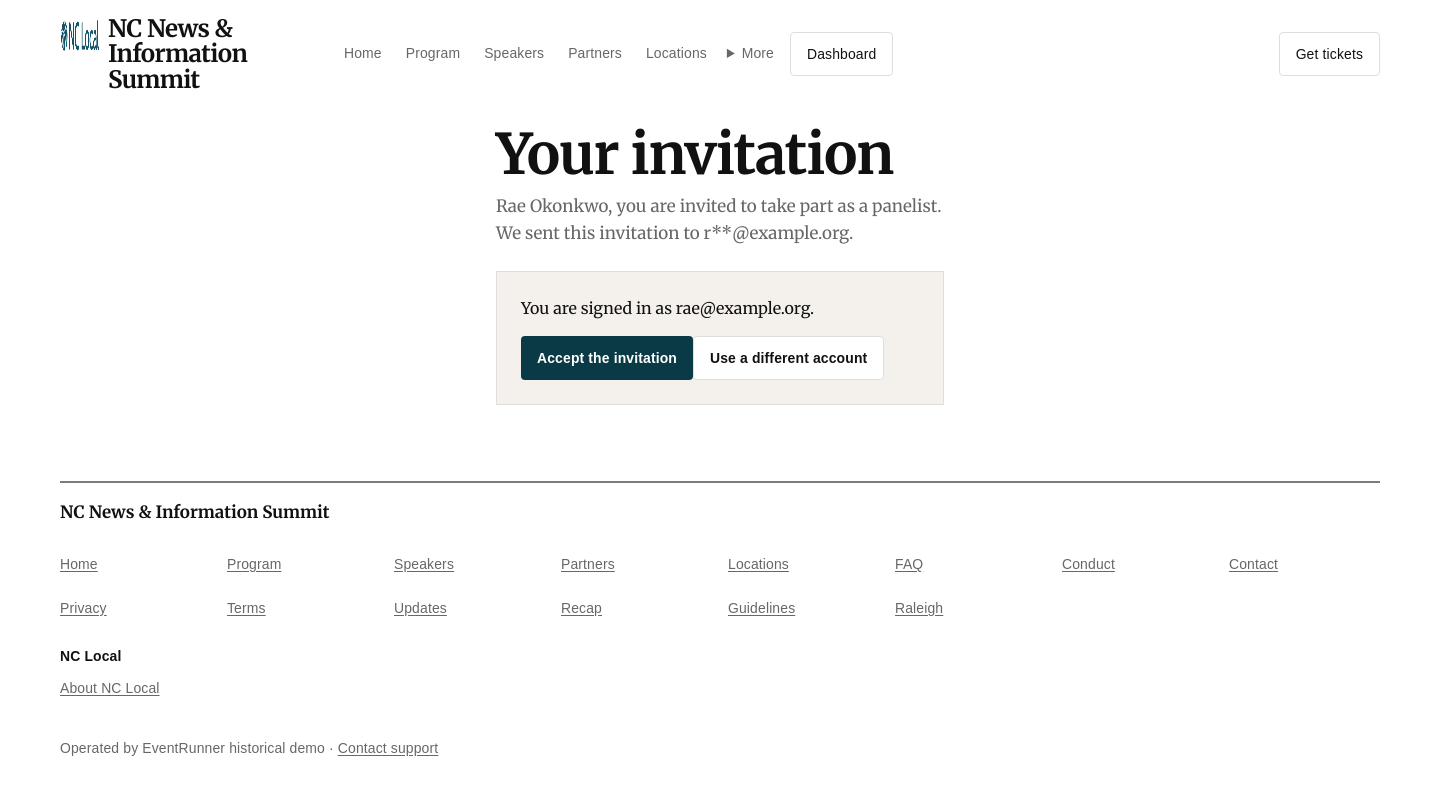
Test: accepting › moves the whole page to the expired state when the token dies mid-flight
Click the button "Accept the invitation": [607, 358] box [521, 336, 693, 380]
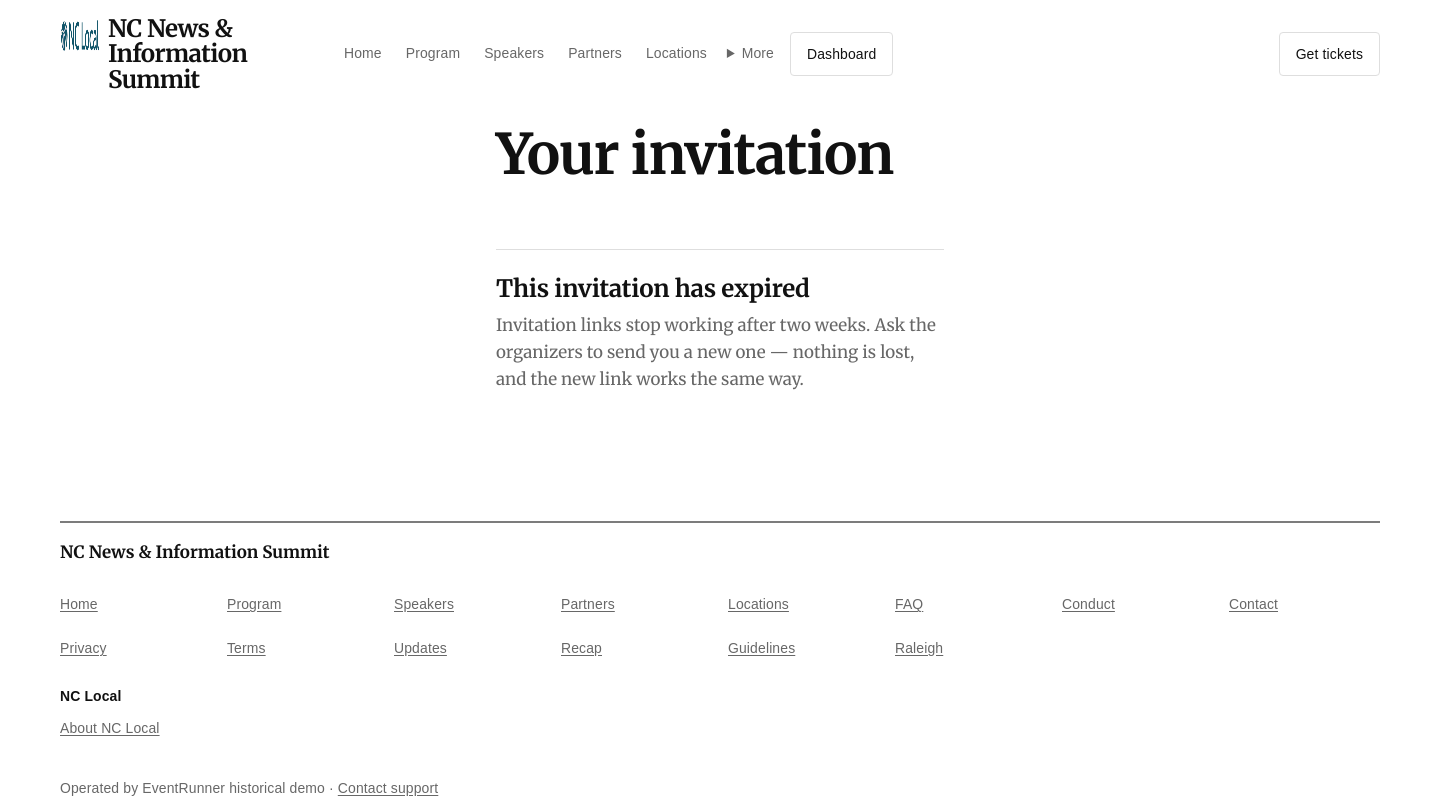
Now the heading "This invitation has expired" is shown, box [496, 273, 810, 304]
Now the button "Accept the invitation" is gone
